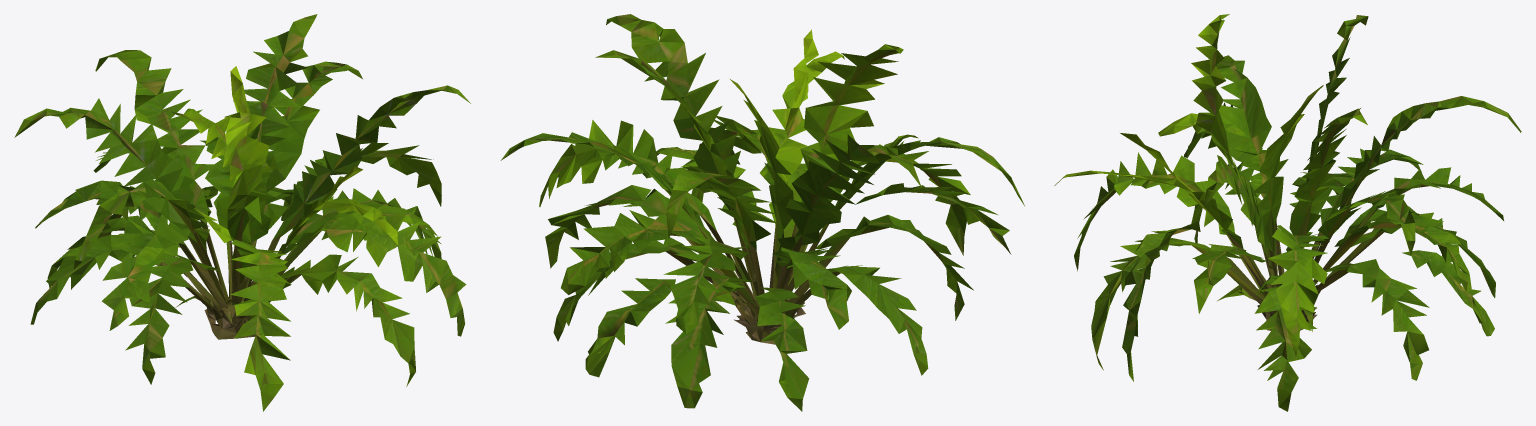
Rendered from VEG_HelechoTropical_02_LOD0.fbx.
3 renders of one model, left to right at view 1: azimuth 30°, elevation 25°; view 2: azimuth 150°, elevation 25°; view 3: azimuth 270°, elevation 25°, orthographic. The views are drawn at different scales.
Parts seen in each view (by area): view 1: VEG_HelechoTropical_02_Mesh000; view 2: VEG_HelechoTropical_02_Mesh000; view 3: VEG_HelechoTropical_02_Mesh000.
Boxes of the visible parts, <box> form: VEG_HelechoTropical_02_Mesh000: <box>14,14,470,411</box>; VEG_HelechoTropical_02_Mesh000: <box>500,14,1024,411</box>; VEG_HelechoTropical_02_Mesh000: <box>1054,14,1521,411</box>.
Size of the model in its own units: 1.88 by 1.2 by 1.85.
